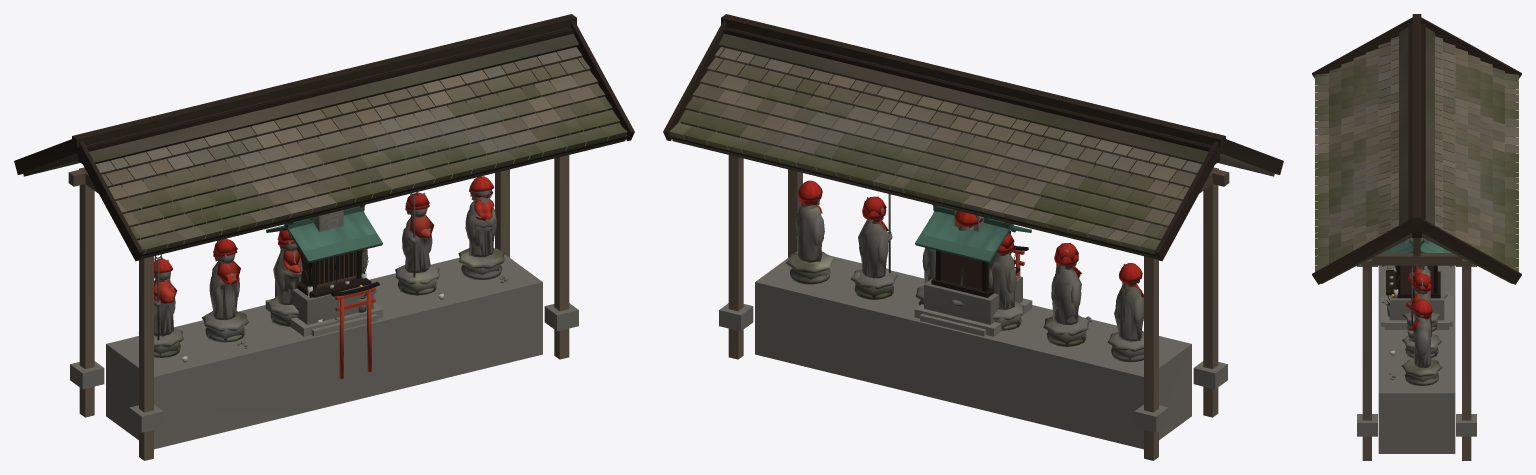
File: wayside.glb
3 views of the same model, side by side, from view 1: azimuth 30°, elevation 25°; view 2: azimuth 150°, elevation 25°; view 3: azimuth 270°, elevation 25° (orthographic). The views are drawn at different scales.
Parts seen in each view (by area): view 1: jizo, jizo_far, hokora, hokora_far; view 2: jizo, jizo_far, hokora_far, hokora, jizo1_far; view 3: jizo, jizo_far, hokora_far, hokora, jizo1_far.
Boxes of the visible parts, x1,y1,x2,y2 form: jizo: (14, 14, 634, 460); jizo_far: (23, 27, 626, 460); hokora: (274, 204, 382, 378); hokora_far: (265, 206, 383, 336); jizo: (663, 14, 1283, 460); jizo_far: (671, 27, 1274, 460); hokora_far: (914, 206, 1032, 336); hokora: (915, 204, 1028, 291); jizo1_far: (920, 211, 986, 336); jizo: (1312, 14, 1521, 460); jizo_far: (1318, 23, 1515, 460); hokora_far: (1382, 248, 1451, 329); hokora: (1382, 240, 1451, 298); jizo1_far: (1381, 241, 1452, 326).
Size of the model in its own units: 3.9 by 2.3 by 1.69.
